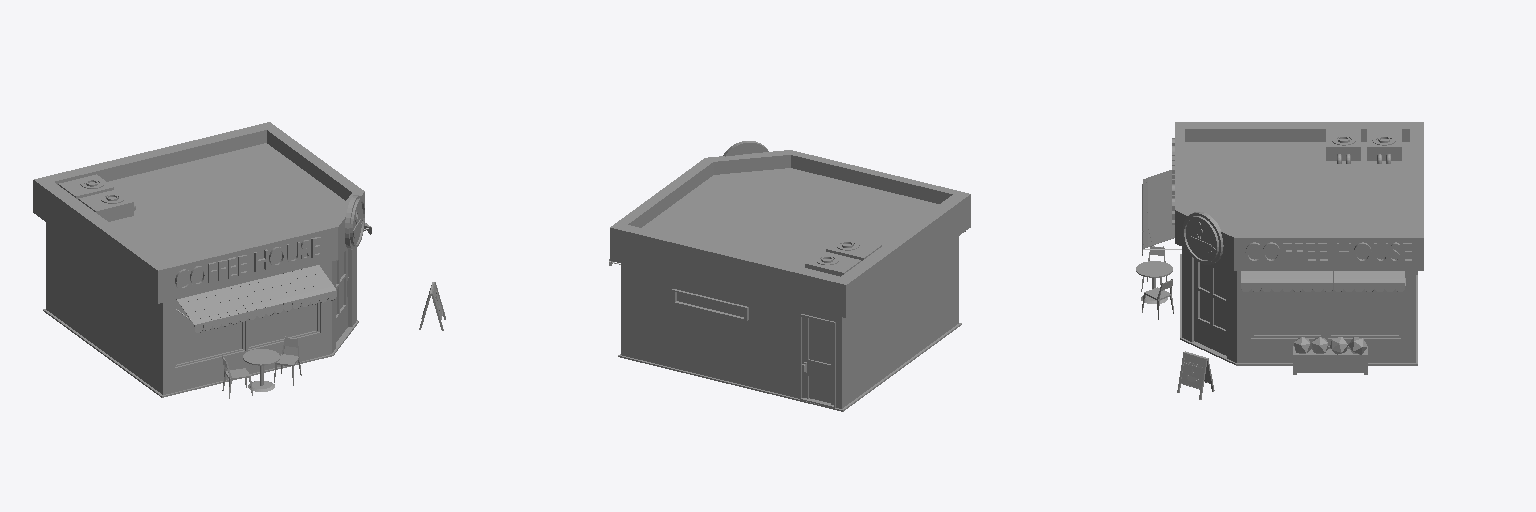
The model's file is cafeteria.obj.
3 renders of one model, left to right at view 1: azimuth 30°, elevation 25°; view 2: azimuth 150°, elevation 25°; view 3: azimuth 270°, elevation 25°, orthographic.
Visible parts, largest first — view 1: osnkvva_Куб.001, verka_Плоскость.006, erka_bol_Плоскость.003, teks_CUТекст, kondil_Куб.003, stol_Окружность.005, kondik_Куб.002, stakan_Окружность.004; view 2: osnkvva_Куб.001, kondik_Куб.002, kondil_Куб.003; view 3: osnkvva_Куб.001, zwet_Икосфера.003, verka_val_Плоскость.004, verka_mal_Плоскость.001, tecst_CUТекст.001, stakan_Окружность.004, kondil_Куб.003, kondik_Куб.002, erka_bol_Плоскость.003, verka_Плоскость.006, viviska_Куб.006, stol_Окружность.005.
Boxes of the visible parts, x1=… form: osnkvva_Куб.001: x1=33, y1=122, x2=364, y2=397; verka_Плоскость.006: x1=176, y1=267, x2=327, y2=332; erka_bol_Плоскость.003: x1=186, y1=265, x2=336, y2=330; teks_CUТекст: x1=175, y1=237, x2=320, y2=289; kondil_Куб.003: x1=78, y1=189, x2=133, y2=221; stol_Окружность.005: x1=243, y1=349, x2=279, y2=391; kondik_Куб.002: x1=58, y1=174, x2=113, y2=198; stakan_Окружность.004: x1=345, y1=195, x2=364, y2=249; osnkvva_Куб.001: x1=610, y1=150, x2=970, y2=411; kondik_Куб.002: x1=805, y1=251, x2=860, y2=276; kondil_Куб.003: x1=826, y1=236, x2=881, y2=260; osnkvva_Куб.001: x1=1175, y1=122, x2=1423, y2=365; zwet_Икосфера.003: x1=1293, y1=337, x2=1367, y2=374; verka_val_Плоскость.004: x1=1251, y1=271, x2=1404, y2=291; verka_mal_Плоскость.001: x1=1241, y1=271, x2=1394, y2=291; tecst_CUТекст.001: x1=1245, y1=242, x2=1411, y2=262; stakan_Окружность.004: x1=1183, y1=212, x2=1223, y2=264; kondil_Куб.003: x1=1326, y1=128, x2=1360, y2=160; kondik_Куб.002: x1=1367, y1=128, x2=1401, y2=160; erka_bol_Плоскость.003: x1=1142, y1=174, x2=1174, y2=255; verka_Плоскость.006: x1=1142, y1=170, x2=1174, y2=248; viviska_Куб.006: x1=1177, y1=351, x2=1214, y2=399; stol_Окружность.005: x1=1136, y1=261, x2=1172, y2=303.
Size of the model in its own units: 3.91 by 1.78 by 3.24.